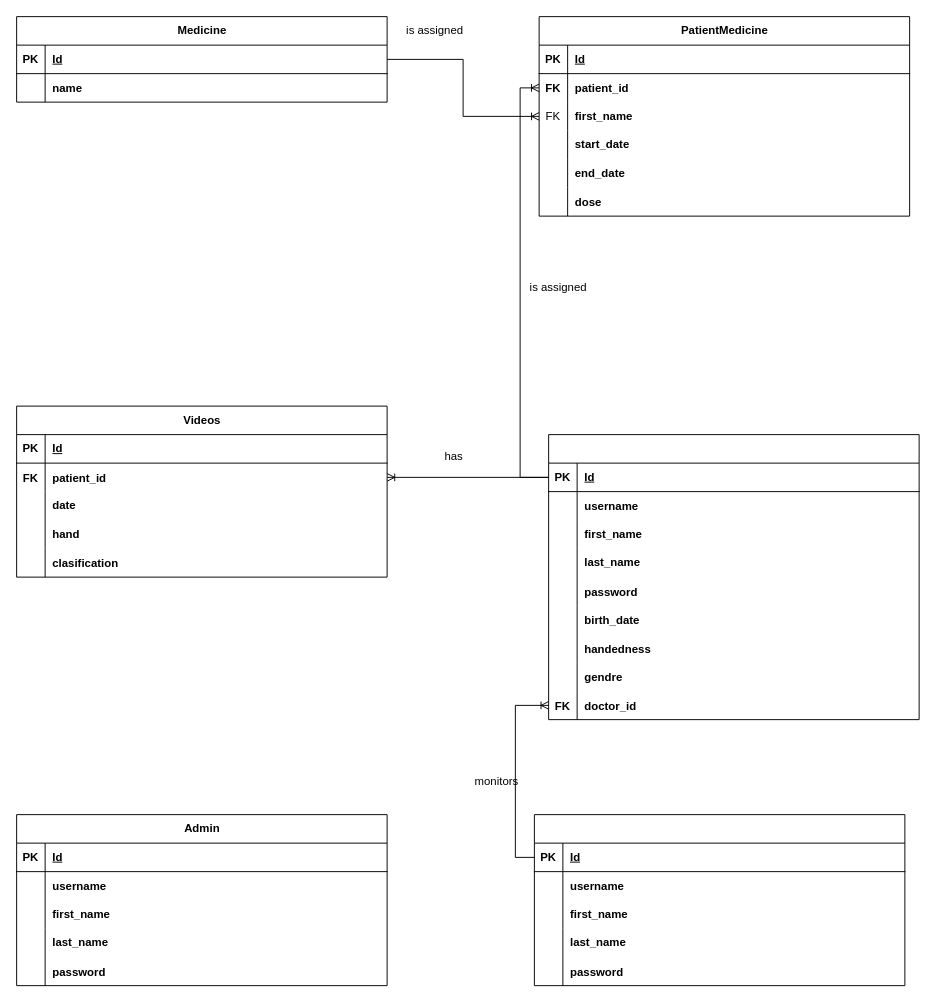
The diagram is 936 pixels wide and 1002 high, and some of its shapes have lost their labels. Each missing label, with the box of its shape:
Doctor: (533, 814, 905, 986)
Patient: (548, 434, 919, 720)
